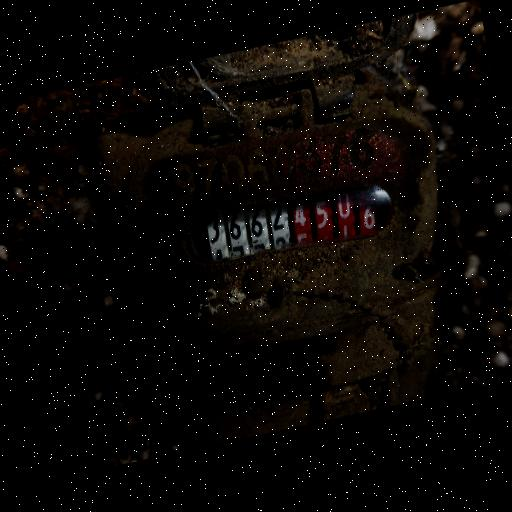0: (329, 185, 363, 242)
2: (265, 197, 296, 252)
3: (203, 208, 230, 262)
4: (286, 193, 318, 249)
5: (307, 189, 338, 245)
6: (352, 180, 386, 238), (243, 200, 274, 256), (221, 205, 251, 259)
border_water_meter_number: (184, 171, 398, 276)
